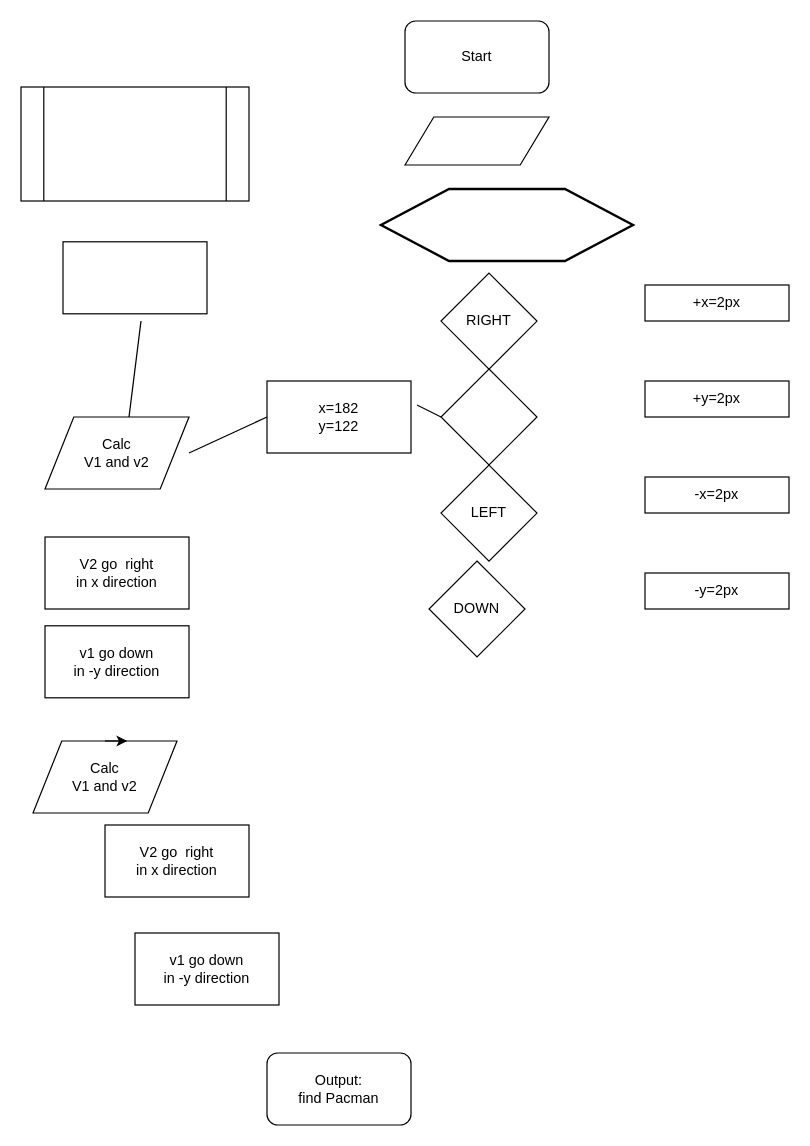
Some shapes in this 810 by 1146 pixel diagram are drawn without their labels. Each missing label, with the box of its shape:
3 Ghosts are in the house, 1 starts at pixel:: (20, 86, 249, 201)
if user presses(for 1 sec): (379, 187, 634, 262)
UP: (440, 368, 537, 465)
User input: (404, 116, 549, 165)
x=260 y=200: (62, 241, 207, 314)
